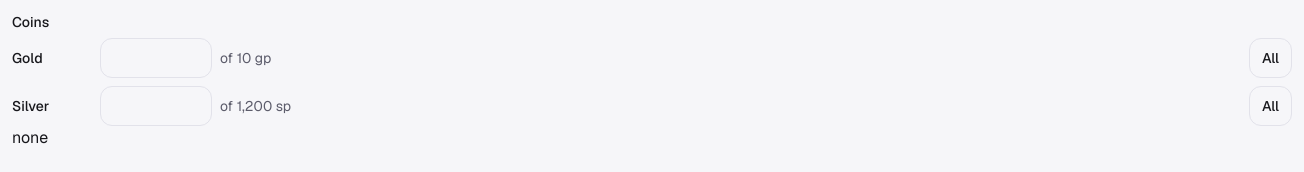
components/transfers/coin-fields › takes all of a coin at a tap
The image size is (1304, 172).
Click the button with aria-label "All Gold" at [1270, 58], box [1249, 38, 1292, 78]
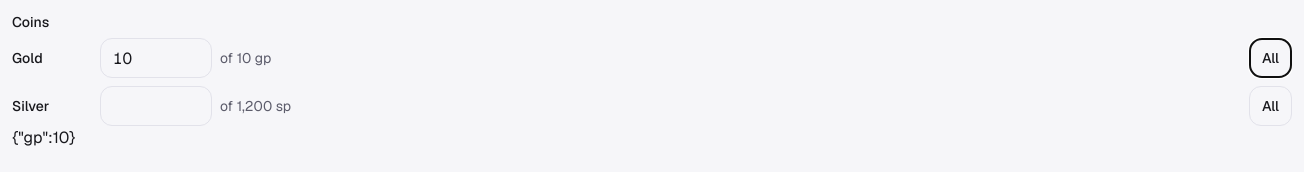
Expected: the field labelled "Gold" holds "10", [100, 38, 212, 78]
Expected: the text named "Moved" reads "{\"gp\":10}", [12, 127, 76, 148]
